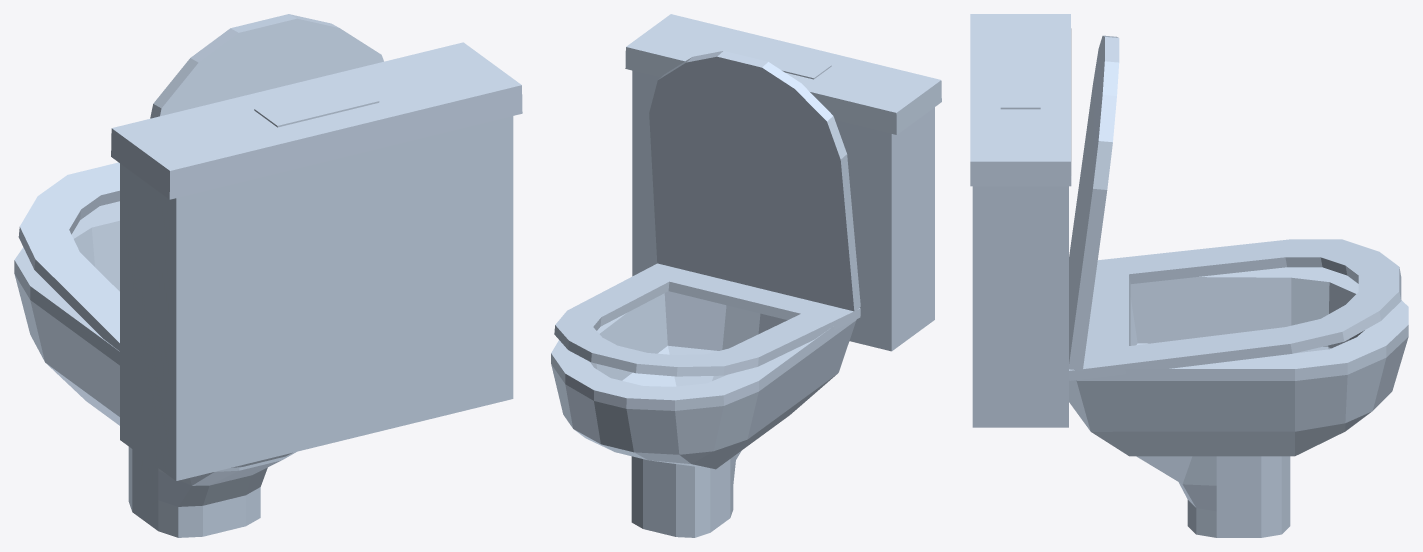
Rendered from Tualet.fbx.
The picture shows the model from 3 angles, left to right: view 1: azimuth 30°, elevation 25°; view 2: azimuth 150°, elevation 25°; view 3: azimuth 270°, elevation 25°; orthographic projection. The views are drawn at different scales.
Visible parts, largest first — view 1: Cube.017; view 2: Cube.017; view 3: Cube.017.
Boxes of the visible parts, x1=… form: Cube.017: x1=14, y1=14, x2=522, y2=537; Cube.017: x1=551, y1=14, x2=941, y2=537; Cube.017: x1=970, y1=14, x2=1408, y2=537.
Bounding box in the file's own units: 47.94 × 70.4 × 60.
